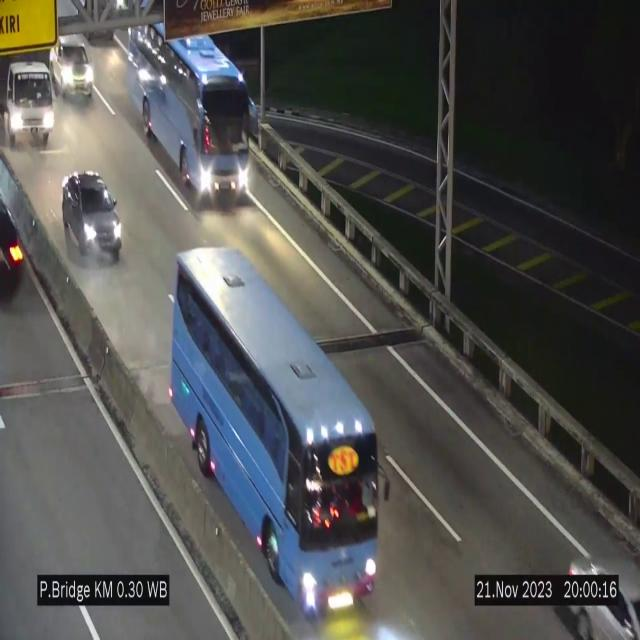Bus: (167, 247, 392, 617), (123, 25, 260, 204)
Car: (561, 527, 640, 640), (64, 172, 122, 261), (52, 30, 92, 103)
Truck: (0, 42, 56, 155)
